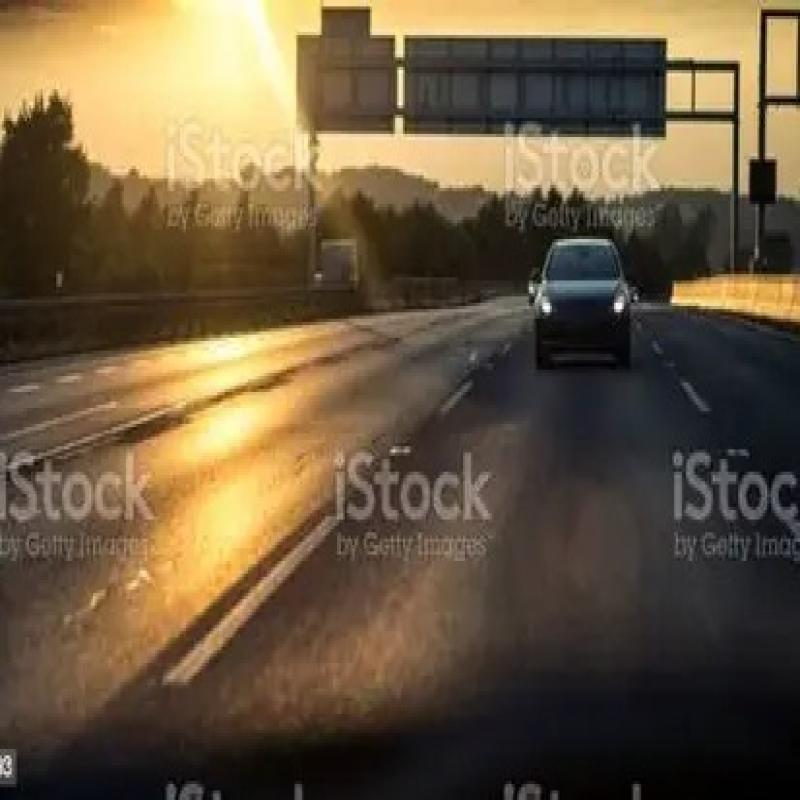license plate on a car: (565, 316, 604, 339)
